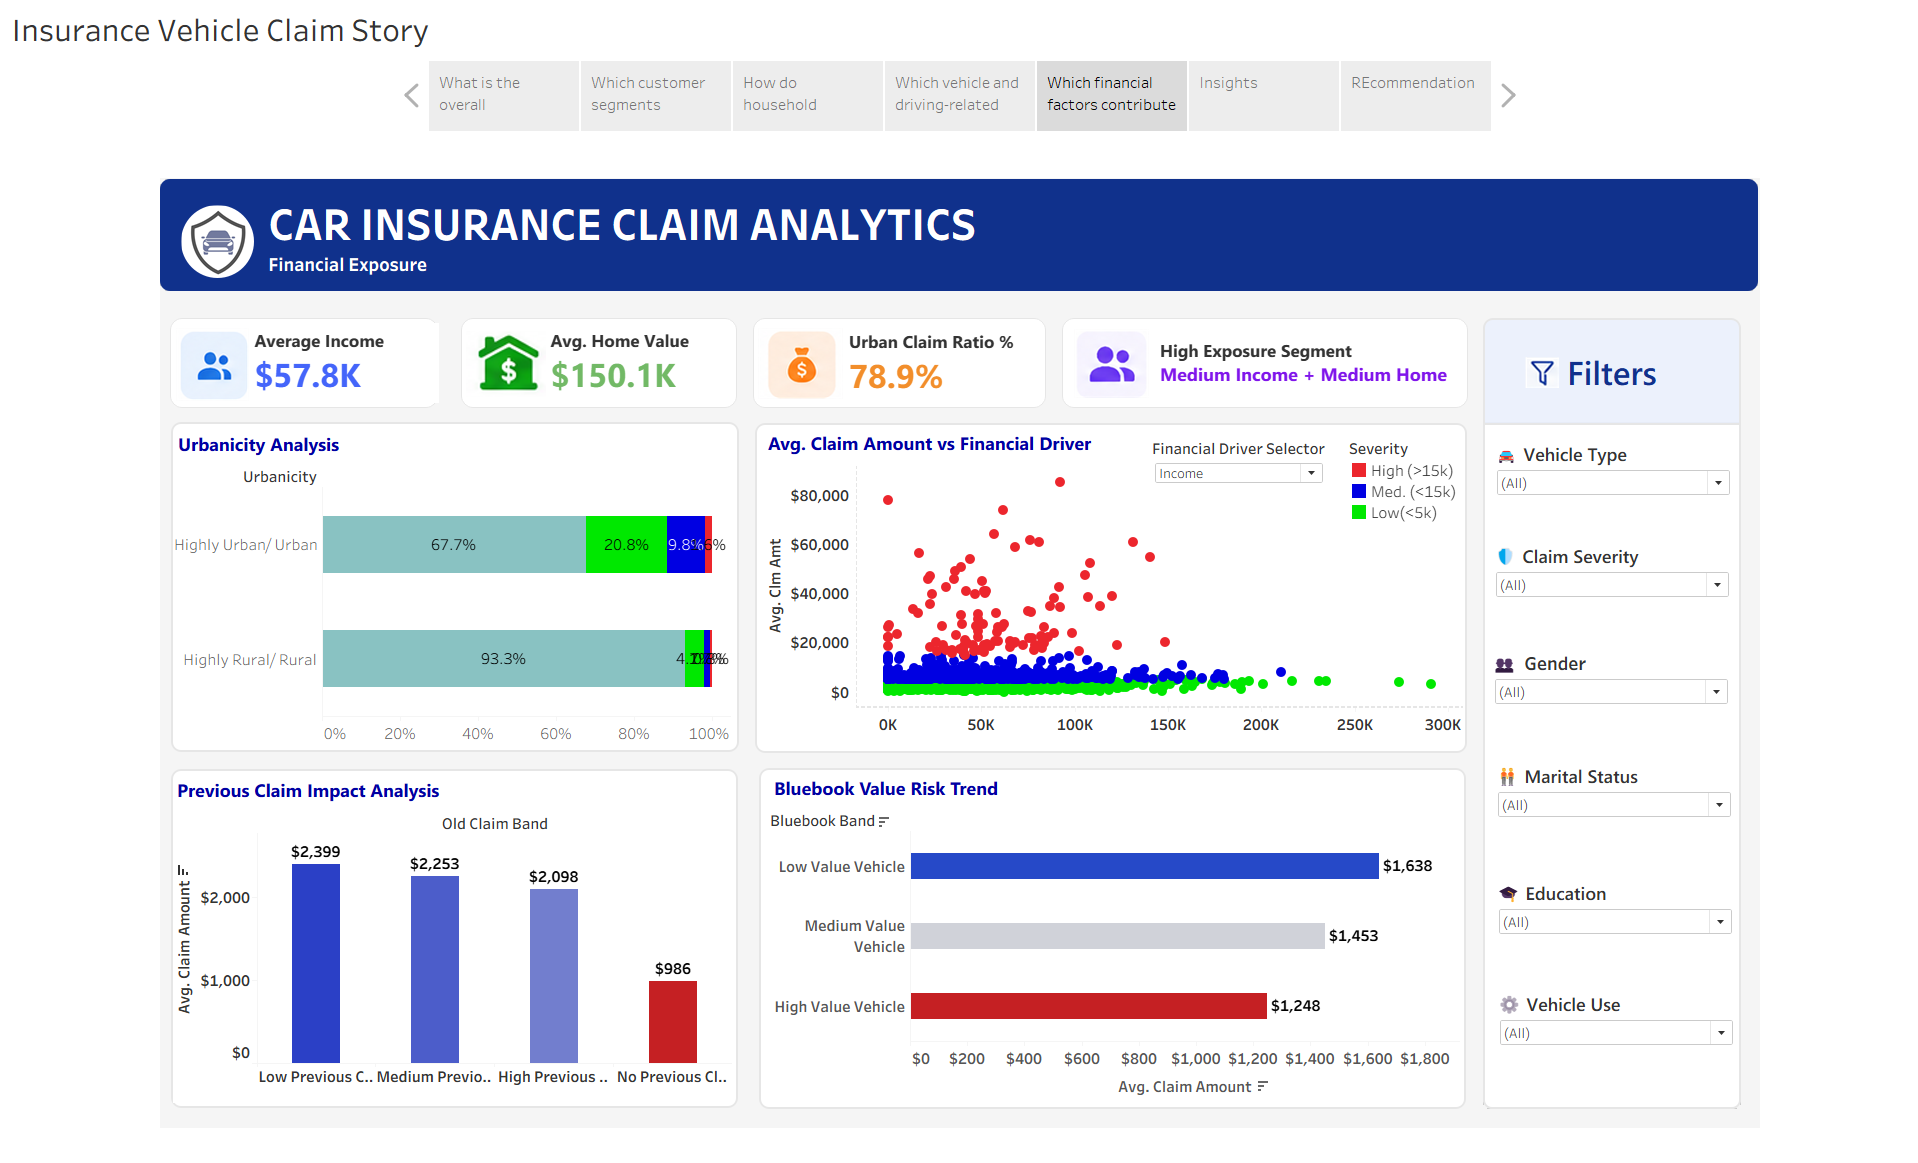

Layout of this report page (visuals, bound fields, positions):
{"tool":"tableau","page":{"name":"Financial Exposure","canvas":[1600,950],"ordinal":2},"visuals":[{"type":"text","box":[105,4,1075,105]},{"type":"image","param":"C:/Users/Abhi/Downloads/car-protection-shield-icon-vector-22266842.jpg","box":[17,23,81,81]},{"type":"blank","box":[0,130,288,110]},{"type":"blank","box":[291,130,296,110]},{"type":"blank","box":[583,130,313,110]},{"type":"blank","box":[892,130,426,110]},{"type":"text","box":[1323,140,258,107]},{"type":"image","param":"C:/Users/Abhi/Pictures/Screenshots/Screenshot 2026-06-18 225527.png","box":[306,144,85,85]},{"type":"worksheet","title":"D5-KPI 2","mark":"Automatic","box":[386,144,155,81]},{"type":"worksheet","title":"D5 - KPI 1","mark":"Automatic","box":[90,145,189,80]},{"type":"image","param":"C:/Users/Abhi/Pictures/Screenshots/Screenshot 2026-06-17 132224.png","box":[909,145,85,81]},{"type":"worksheet","title":"D5-KPI 4","mark":"Text","box":[996,145,308,79]},{"type":"worksheet","title":"D5-KPI3","mark":"Automatic","box":[685,146,186,79]},{"type":"image","param":"C:/Users/Abhi/Pictures/Screenshots/Screenshot 2026-06-12 102710.png","box":[598,148,85,76]},{"type":"image","param":"C:/Users/Abhi/Pictures/Screenshots/Screenshot 2026-06-11 130333.png","box":[16,150,73,74]},{"type":"image","param":"C:/Users/Abhi/Pictures/Screenshots/Screenshot 2026-06-15 124445.png","box":[1365,179,34,37]},{"type":"blank","box":[11,244,568,330]},{"type":"blank","box":[595,245,712,330]},{"type":"worksheet","title":"Financial Driver Selector vs Claim","mark":"Circle","rows":["CLM_AMT"],"cols":["Calculation_0302929445593089"],"box":[604,249,699,320]},{"type":"worksheet","title":"Urbanicity","mark":"Automatic","rows":["URBANICITY"],"box":[14,250,557,318]},{"type":"parameter","param":"[Parameters].[Parameter 3]","box":[992,260,174,48]},{"type":"legend","title":"Financial Driver Selector vs Claim","param":"[federated.1cwp72307fy7nm1c09t5v07zbwmn].[none:Calculation_1023656399728644:nk]","box":[1189,260,113,99]},{"type":"filter","title":"D5 - KPI 1","param":"[federated.1cwp72307fy7nm1c09t5v07zbwmn].[none:CAR_TYPE:nk]","box":[1334,264,239,57]},{"type":"filter","title":"D5 - KPI 1","param":"[federated.1cwp72307fy7nm1c09t5v07zbwmn].[none:Calculation_1023656399728644:nk]","box":[1333,366,239,58]},{"type":"filter","title":"D5 - KPI 1","param":"[federated.1cwp72307fy7nm1c09t5v07zbwmn].[none:GENDER:nk]","box":[1332,472,239,57]},{"type":"filter","title":"D5 - KPI 1","param":"[federated.1cwp72307fy7nm1c09t5v07zbwmn].[none:MSTATUS:nk]","box":[1335,586,239,58]},{"type":"blank","box":[599,590,707,341]},{"type":"blank","box":[11,591,567,339]},{"type":"worksheet","title":"Blue Book risk","mark":"Bar","rows":["Calculation_0302929452404739"],"cols":["CLM_AMT"],"box":[610,594,690,332]},{"type":"worksheet","title":"Old vs Claim","mark":"Automatic","rows":["CLM_AMT"],"cols":["Calculation_0302929452187650"],"box":[13,596,559,329]},{"type":"filter","title":"D5 - KPI 1","param":"[federated.1cwp72307fy7nm1c09t5v07zbwmn].[none:EDUCATION:nk]","box":[1336,703,239,59]},{"type":"filter","title":"D5 - KPI 1","param":"[federated.1cwp72307fy7nm1c09t5v07zbwmn].[none:CAR_USE:nk]","box":[1337,814,239,57]}]}

Visuals, with their boxes in screenshot pixels (x1, y1, x2, y2), scaled from the page's 1600x950 canvas onto the 1918x1163 screenshot:
text: <box>126,5,1415,133</box>
image: <box>20,28,117,127</box>
blank: <box>0,159,345,294</box>
blank: <box>349,159,704,294</box>
blank: <box>699,159,1074,294</box>
blank: <box>1069,159,1580,294</box>
text: <box>1586,171,1895,302</box>
image: <box>367,176,469,280</box>
"D5-KPI 2" worksheet: <box>463,176,649,275</box>
"D5 - KPI 1" worksheet: <box>108,178,334,275</box>
image: <box>1090,178,1192,277</box>
"D5-KPI 4" worksheet (Text marks): <box>1194,178,1563,274</box>
"D5-KPI3" worksheet: <box>821,179,1044,275</box>
image: <box>717,181,819,274</box>
image: <box>19,184,107,274</box>
image: <box>1636,219,1677,264</box>
blank: <box>13,299,694,703</box>
blank: <box>713,300,1567,704</box>
"Financial Driver Selector vs Claim" worksheet (Circle marks): <box>724,305,1562,697</box>
"Urbanicity" worksheet: <box>17,306,684,695</box>
parameter: <box>1189,318,1398,377</box>
"Financial Driver Selector vs Claim" legend: <box>1425,318,1561,439</box>
"D5 - KPI 1" filter: <box>1599,323,1886,393</box>
"D5 - KPI 1" filter: <box>1598,448,1884,519</box>
"D5 - KPI 1" filter: <box>1597,578,1883,648</box>
"D5 - KPI 1" filter: <box>1600,717,1887,788</box>
blank: <box>718,722,1566,1140</box>
blank: <box>13,724,693,1139</box>
"Blue Book risk" worksheet (Bar marks): <box>731,727,1558,1134</box>
"Old vs Claim" worksheet: <box>16,730,686,1132</box>
"D5 - KPI 1" filter: <box>1602,861,1888,933</box>
"D5 - KPI 1" filter: <box>1603,997,1889,1066</box>
